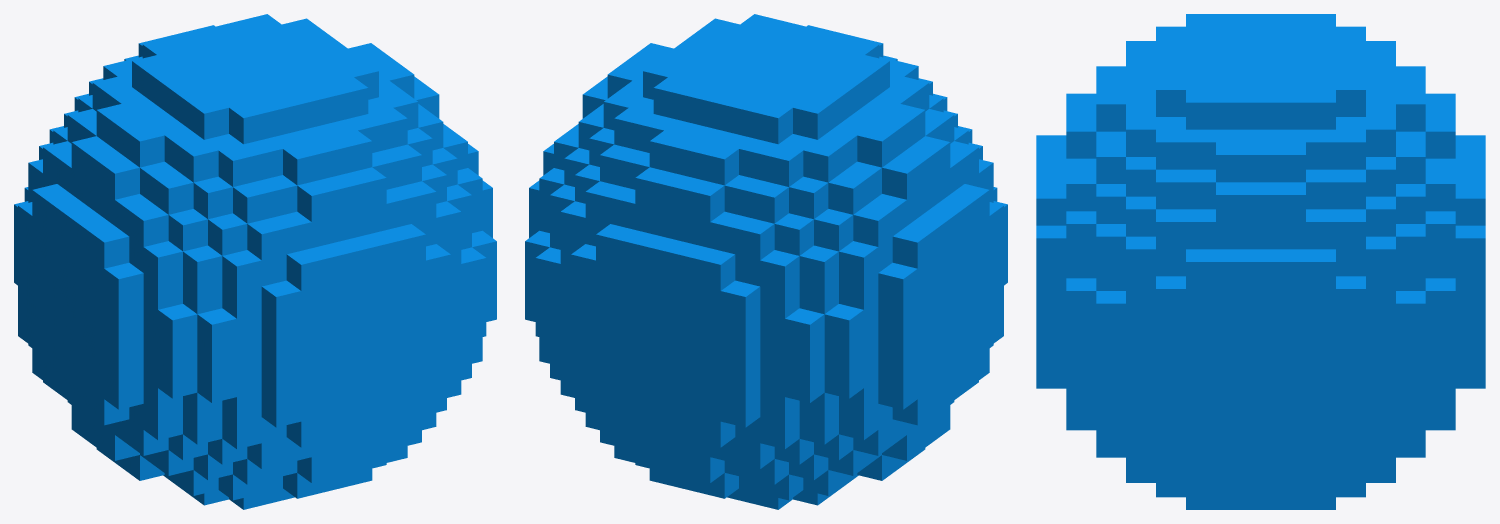
Rendered from Water_drop.fbx.
3 renders of one model, left to right at view 1: azimuth 30°, elevation 25°; view 2: azimuth 150°, elevation 25°; view 3: azimuth 270°, elevation 25°, orthographic. The views are drawn at different scales.
Parts seen in each view (by area): view 1: Water_drop; view 2: Water_drop; view 3: Water_drop.
Part boxes in pixels (x1,y1,x2,y2): Water_drop: [14, 14, 496, 509]; Water_drop: [525, 14, 1007, 509]; Water_drop: [1036, 14, 1485, 509].
Bounding box in the file's own units: 15 × 15 × 15.
